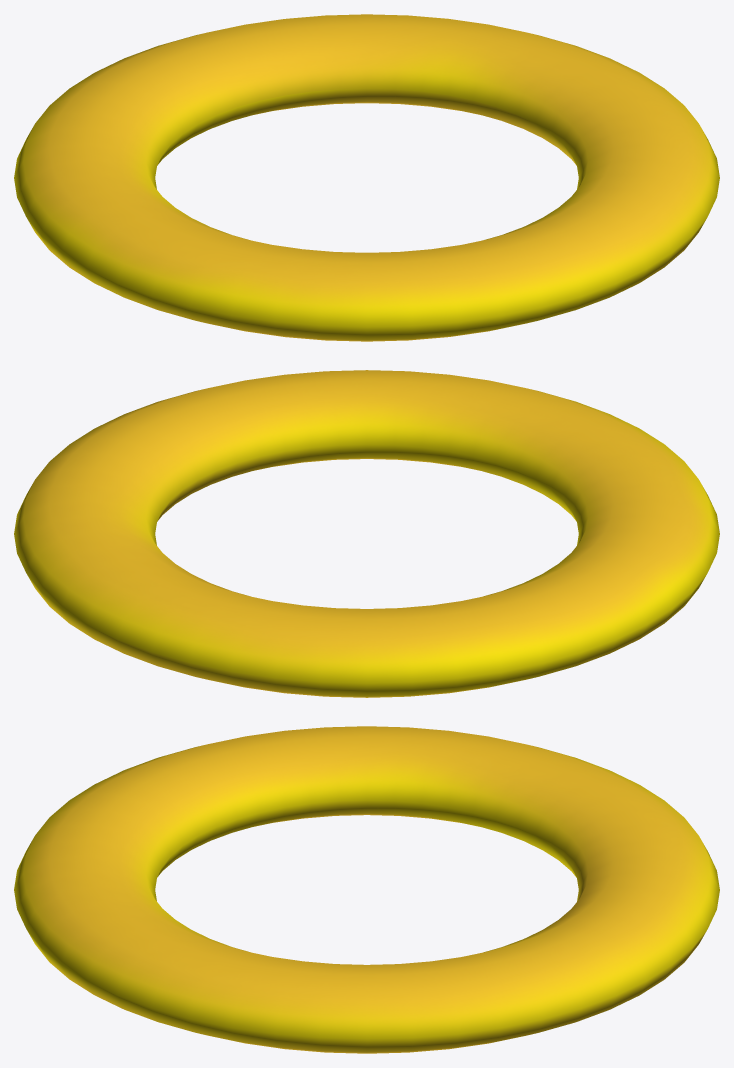
The model's file is ring.fbx.
3 renders of one model, top to bottom at view 1: azimuth 30°, elevation 25°; view 2: azimuth 150°, elevation 25°; view 3: azimuth 270°, elevation 25°, orthographic.
Visible parts, largest first — view 1: Torus; view 2: Torus; view 3: Torus.
Boxes of the visible parts, box(x1,y1,x2,y2) form: Torus: box(14, 14, 719, 341); Torus: box(14, 370, 719, 697); Torus: box(14, 726, 719, 1053).
Bounding box in the file's own units: 0.8578 × 0.0917 × 0.8578.
1 material, 1 textured.
